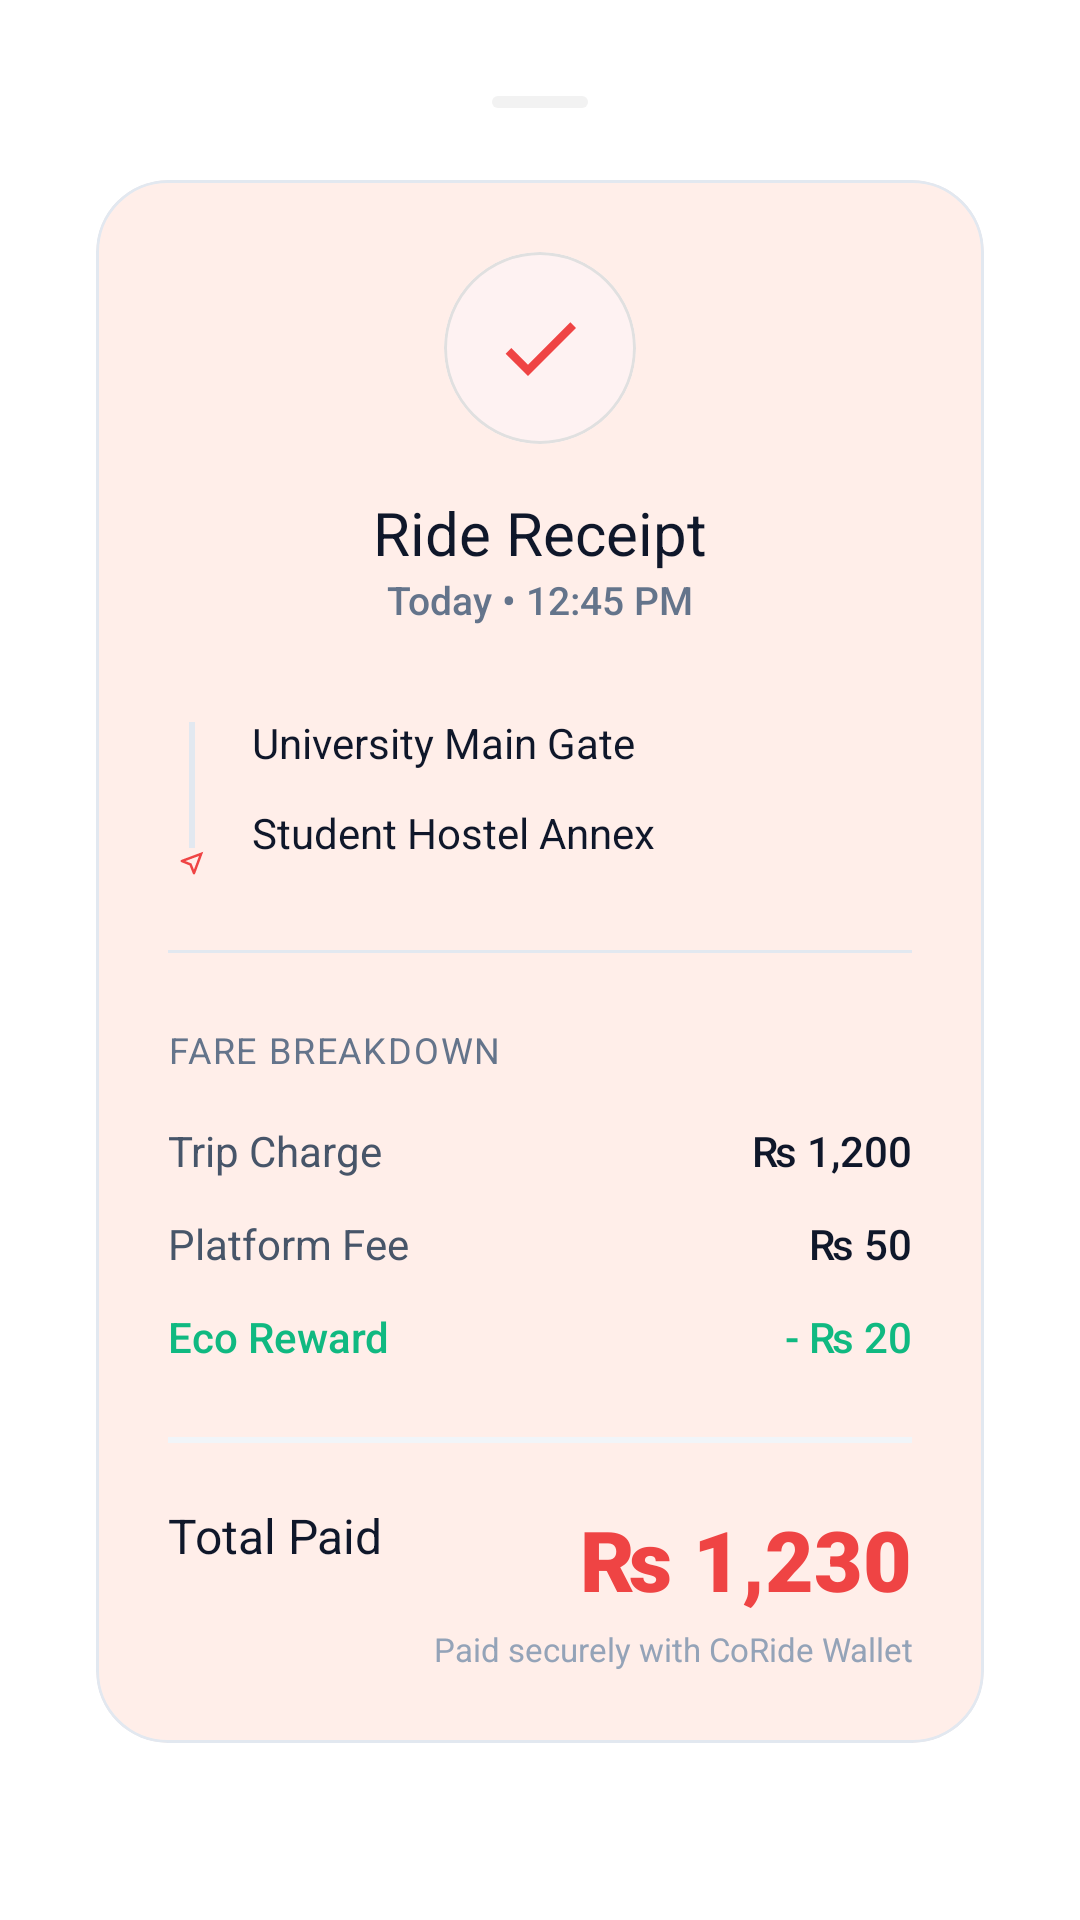

Icons on this 1080px×1920px Android screen, each with the point to tap as [x,y]:
check: [541,349]
